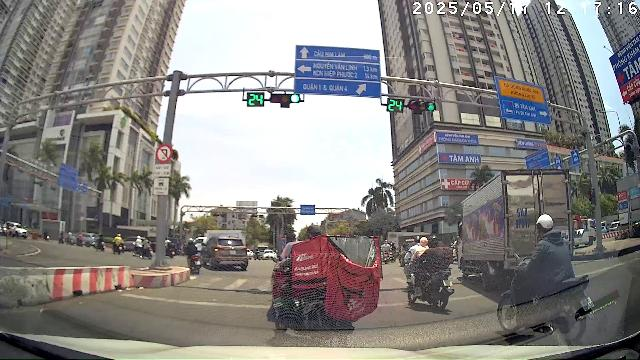103c-cam-oto-re-trai: (155, 144, 173, 164)
